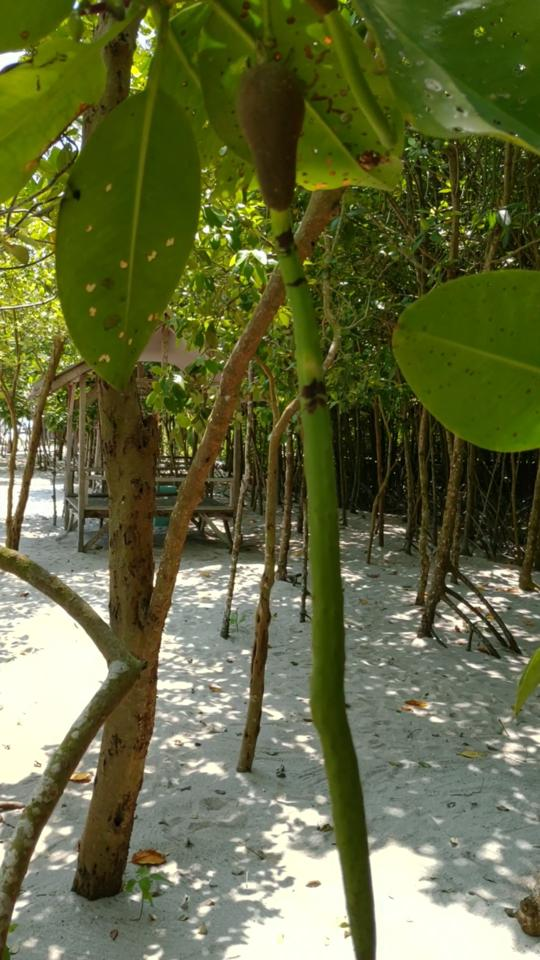mentah: (212, 26, 412, 958)
